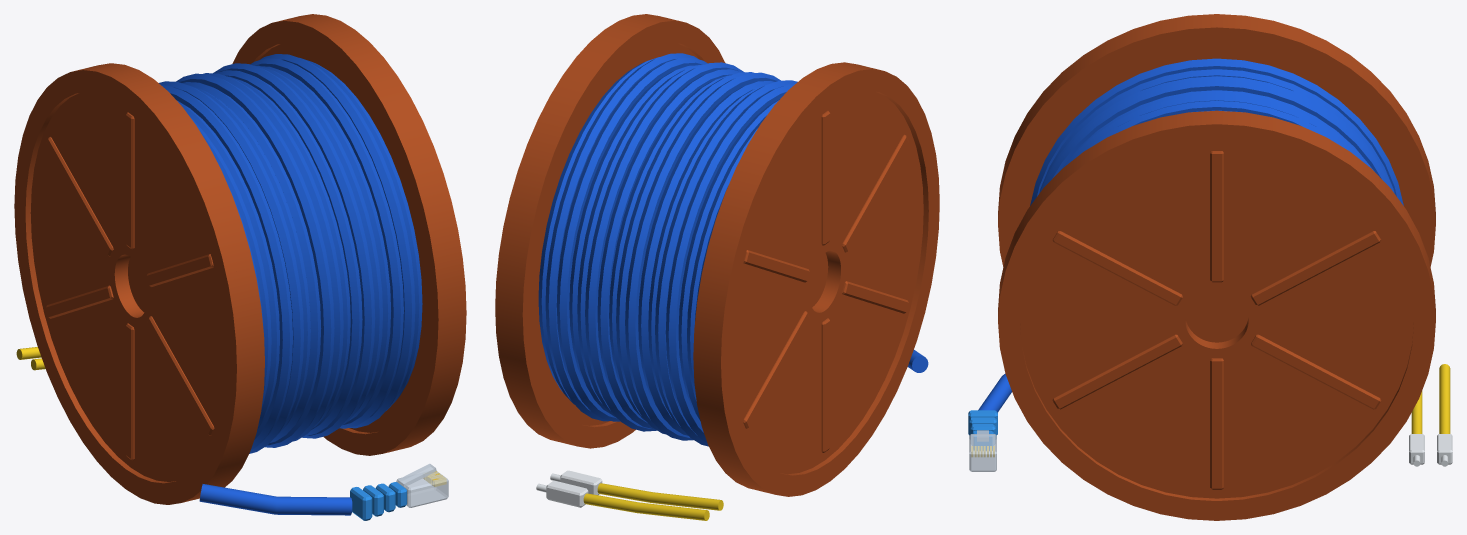
The model's file is dc_cable_spool.obj.
3 views of the same model, side by side, from view 1: azimuth 30°, elevation 25°; view 2: azimuth 150°, elevation 25°; view 3: azimuth 270°, elevation 25° (orthographic).
Parts seen in each view (by area): view 1: Spool_Reel_Drum_Spool_Drum_Terracotta, Wound_100m_Cable_Coils_CAT6E_Jacket_Blue, RJ45_CAT6E_Connector_CAT6E_Jacket_Blue, RJ45_CAT6E_Connector_RJ45_Boot_SkyBlue, RJ45_CAT6E_Connector_RJ45_Polycarbonate_Plug; view 2: Spool_Reel_Drum_Spool_Drum_Terracotta, Wound_100m_Cable_Coils_CAT6E_Jacket_Blue, Duplex_LC_Fiber_Connector_Fiber_Jacket_Yellow, Duplex_LC_Fiber_Connector_LC_Duplex_Housing_White; view 3: Spool_Reel_Drum_Spool_Drum_Terracotta, Wound_100m_Cable_Coils_CAT6E_Jacket_Blue, Duplex_LC_Fiber_Connector_Fiber_Jacket_Yellow, RJ45_CAT6E_Connector_RJ45_Polycarbonate_Plug, Duplex_LC_Fiber_Connector_LC_Duplex_Housing_White, RJ45_CAT6E_Connector_RJ45_Boot_SkyBlue, RJ45_CAT6E_Connector_CAT6E_Jacket_Blue.
Part boxes in pixels (x1,y1,x2,y2): Spool_Reel_Drum_Spool_Drum_Terracotta: (14,14,466,504); Wound_100m_Cable_Coils_CAT6E_Jacket_Blue: (159,54,422,453); RJ45_CAT6E_Connector_CAT6E_Jacket_Blue: (199,484,352,515); RJ45_CAT6E_Connector_RJ45_Boot_SkyBlue: (350,482,406,520); RJ45_CAT6E_Connector_RJ45_Polycarbonate_Plug: (396,463,448,507); Spool_Reel_Drum_Spool_Drum_Terracotta: (495,14,939,496); Wound_100m_Cable_Coils_CAT6E_Jacket_Blue: (538,53,797,446); Duplex_LC_Fiber_Connector_Fiber_Jacket_Yellow: (583,483,723,520); Duplex_LC_Fiber_Connector_LC_Duplex_Housing_White: (536,470,602,507); Spool_Reel_Drum_Spool_Drum_Terracotta: (998,14,1435,520); Wound_100m_Cable_Coils_CAT6E_Jacket_Blue: (1030,58,1403,205); Duplex_LC_Fiber_Connector_Fiber_Jacket_Yellow: (1411,364,1450,433); RJ45_CAT6E_Connector_RJ45_Polycarbonate_Plug: (969,430,996,471); Duplex_LC_Fiber_Connector_LC_Duplex_Housing_White: (1409,434,1452,466); RJ45_CAT6E_Connector_RJ45_Boot_SkyBlue: (968,410,997,450); RJ45_CAT6E_Connector_CAT6E_Jacket_Blue: (978,374,1011,412).
Size of the model in its own units: 0.2764 by 0.44 by 0.487.
